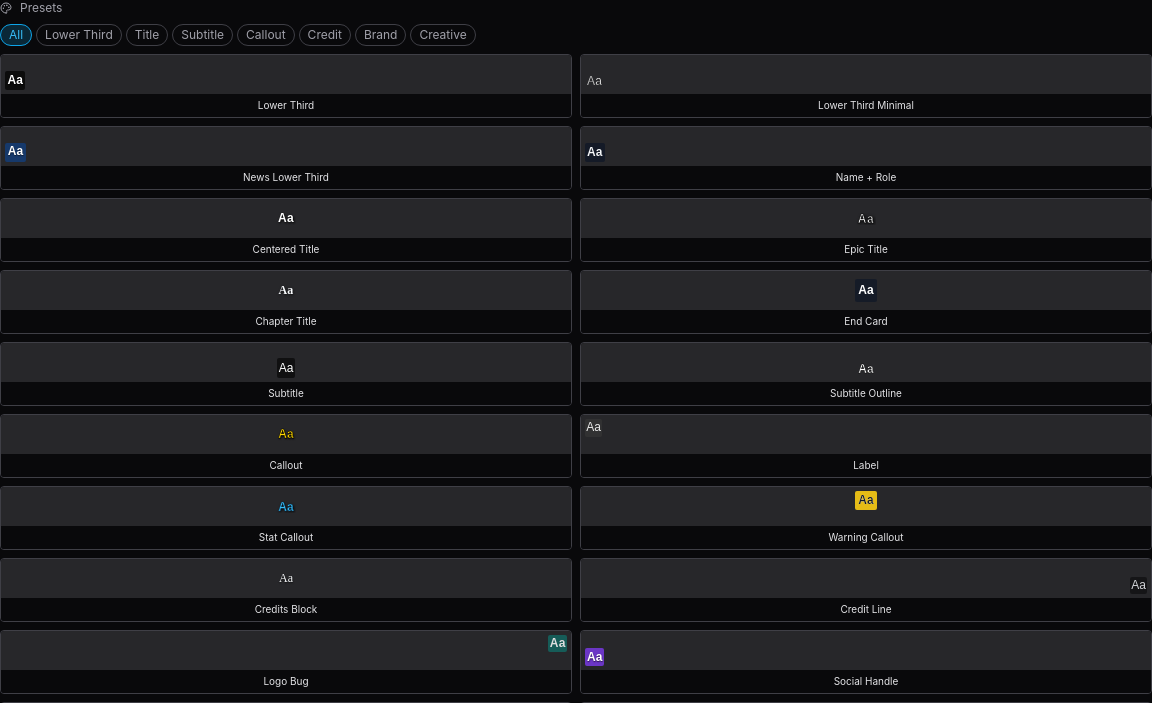
Test: TextPresetPicker › category filtering › should filter credit and brand template categories
This screenshot has width=1152, height=703.
Click the button with test id "category-tab-credit" at point(325, 35), box [299,24,351,46]
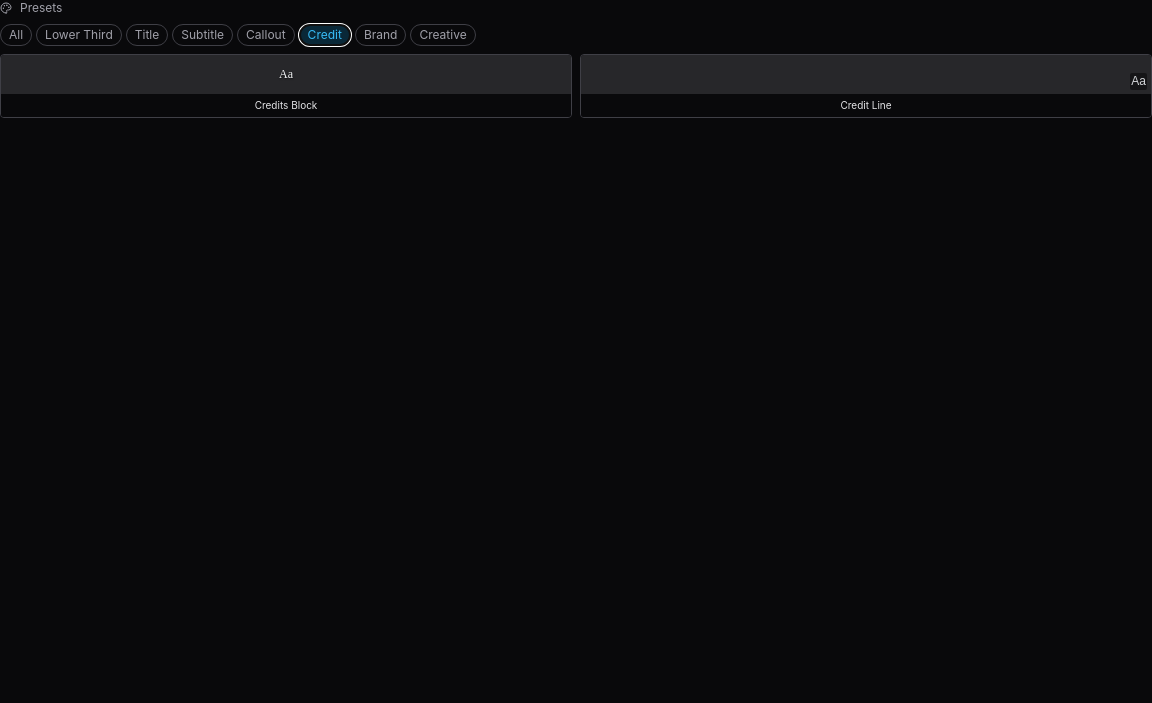
Expected: the button with test id "preset-button-credits-block" is shown, [0,54,572,118]
Now the button with test id "preset-button-logo-bug" is gone
Click the button with test id "category-tab-brand" at point(381, 35), box [355,24,406,46]
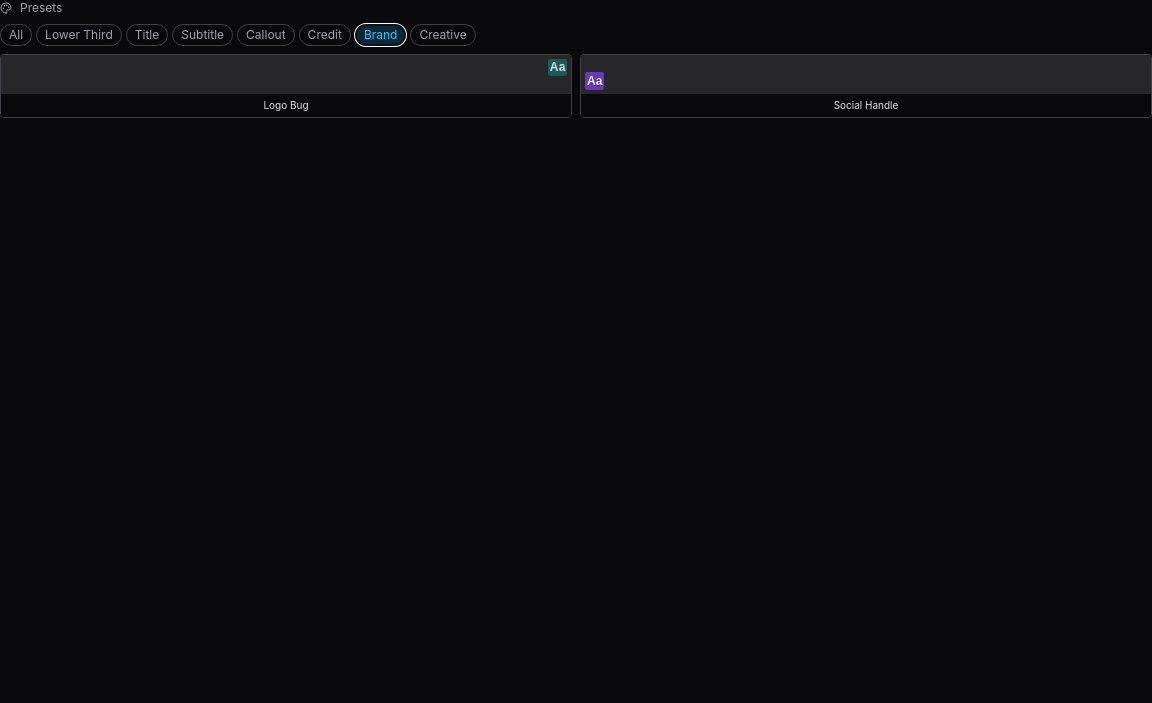
Now the button with test id "preset-button-logo-bug" is shown, box [0,54,572,118]
Now the button with test id "preset-button-social-handle" is shown, box [580,54,1151,118]
Now the button with test id "preset-button-credits-block" is gone
